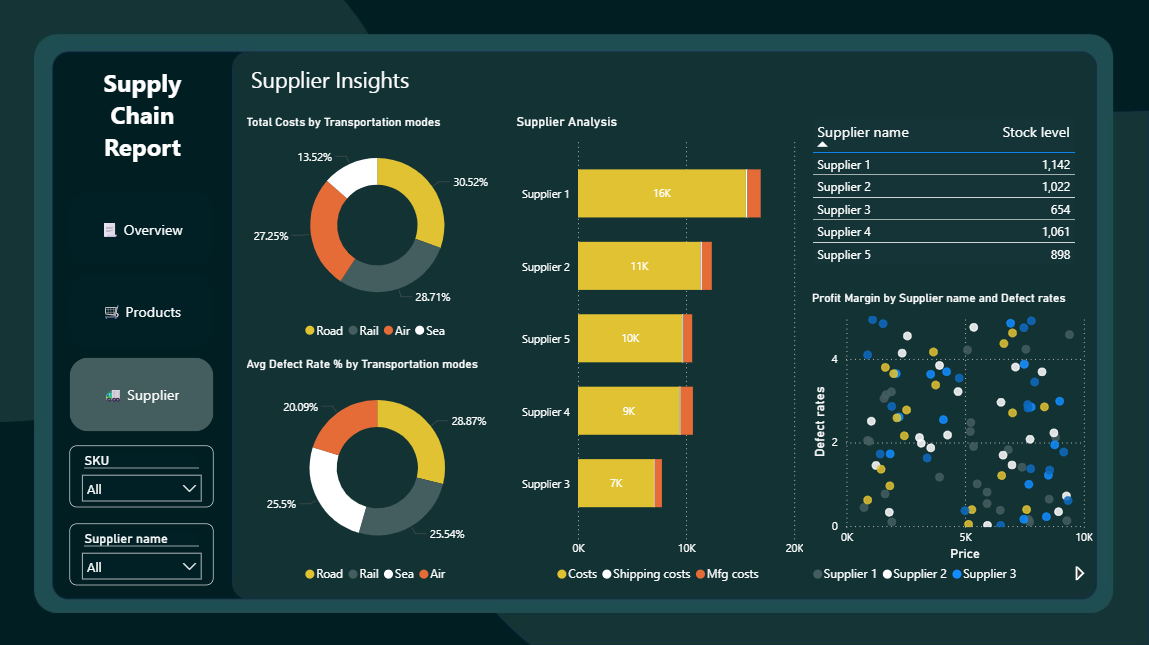

What the dashboard file says about the page in this screenshot:
{"tool":"powerbi","page":{"name":"🚛   Supplier","canvas":[1280,720],"ordinal":2},"visuals":[{"type":"donutChart","fields":{"Y":["_Measures.Total Costs"],"Category":["supply_chain_data.Transportation modes"]},"box":[270,127.5,300,257.5],"z":0},{"type":"donutChart","fields":{"Category":["supply_chain_data.Transportation modes"],"Y":["_Measures.Avg Defect Rate %"]},"box":[270,396.7,300,260],"z":1000},{"type":"barChart","title":"Supplier Analysis","fields":{"Category":["supply_chain_data.Supplier name"],"Y":["Sum(supply_chain_data.Costs)","Sum(supply_chain_data.Shipping costs)","Sum(supply_chain_data.Mfg costs)"]},"box":[570,126.7,328.3,530],"z":2000},{"type":"tableEx","fields":{"Values":["supply_chain_data.Supplier name","_Measures.Stock level"]},"box":[898.3,126.7,310,196.7],"z":3000},{"type":"scatterChart","fields":{"Series":["supply_chain_data.Supplier name"],"Y":["supply_chain_data.Defect rates"],"X":["Sum(supply_chain_data.Profit Margin)"]},"box":[898.3,323.3,321.7,333.3],"z":4000},{"type":"textbox","box":[275,66.7,196.7,78.3],"z":5000},{"type":"pageNavigator","box":[78.9,213.3,160,267.8],"z":6000},{"type":"slicer","fields":{"Values":["supply_chain_data.SKU"]},"box":[78.3,495,160,68.3],"z":7000},{"type":"slicer","fields":{"Values":["supply_chain_data.Supplier name"]},"box":[78.8,581.2,160,68.8],"z":8000},{"type":"textbox","box":[94.3,68.6,128.6,128.6],"z":9000}]}

Visuals, with their boxes in screenshot pixels (x1, y1, x2, y2), scaled from the page's 1280x720 canvas onto the 1149x645 screenshot:
donutChart - _Measures.Total Costs x supply_chain_data.Transportation modes: {"x1": 242, "y1": 114, "x2": 512, "y2": 345}
donutChart - supply_chain_data.Transportation modes x _Measures.Avg Defect Rate %: {"x1": 242, "y1": 355, "x2": 512, "y2": 588}
"Supplier Analysis" barChart: {"x1": 512, "y1": 114, "x2": 806, "y2": 588}
tableEx - supply_chain_data.Supplier name x _Measures.Stock level: {"x1": 806, "y1": 114, "x2": 1085, "y2": 290}
scatterChart - supply_chain_data.Supplier name x supply_chain_data.Defect rates: {"x1": 806, "y1": 290, "x2": 1095, "y2": 588}
textbox: {"x1": 247, "y1": 60, "x2": 423, "y2": 130}
pageNavigator: {"x1": 71, "y1": 191, "x2": 214, "y2": 431}
slicer - supply_chain_data.SKU: {"x1": 70, "y1": 443, "x2": 214, "y2": 505}
slicer - supply_chain_data.Supplier name: {"x1": 71, "y1": 521, "x2": 214, "y2": 582}
textbox: {"x1": 85, "y1": 61, "x2": 200, "y2": 177}
